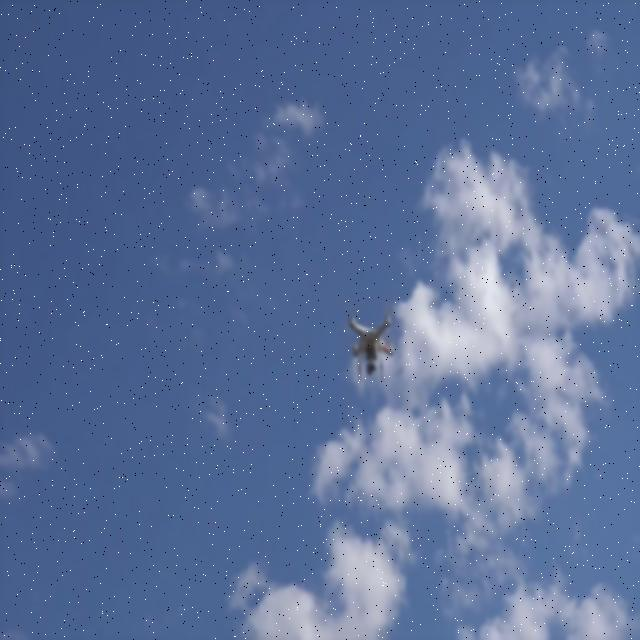UAV: (349, 314, 394, 382)
